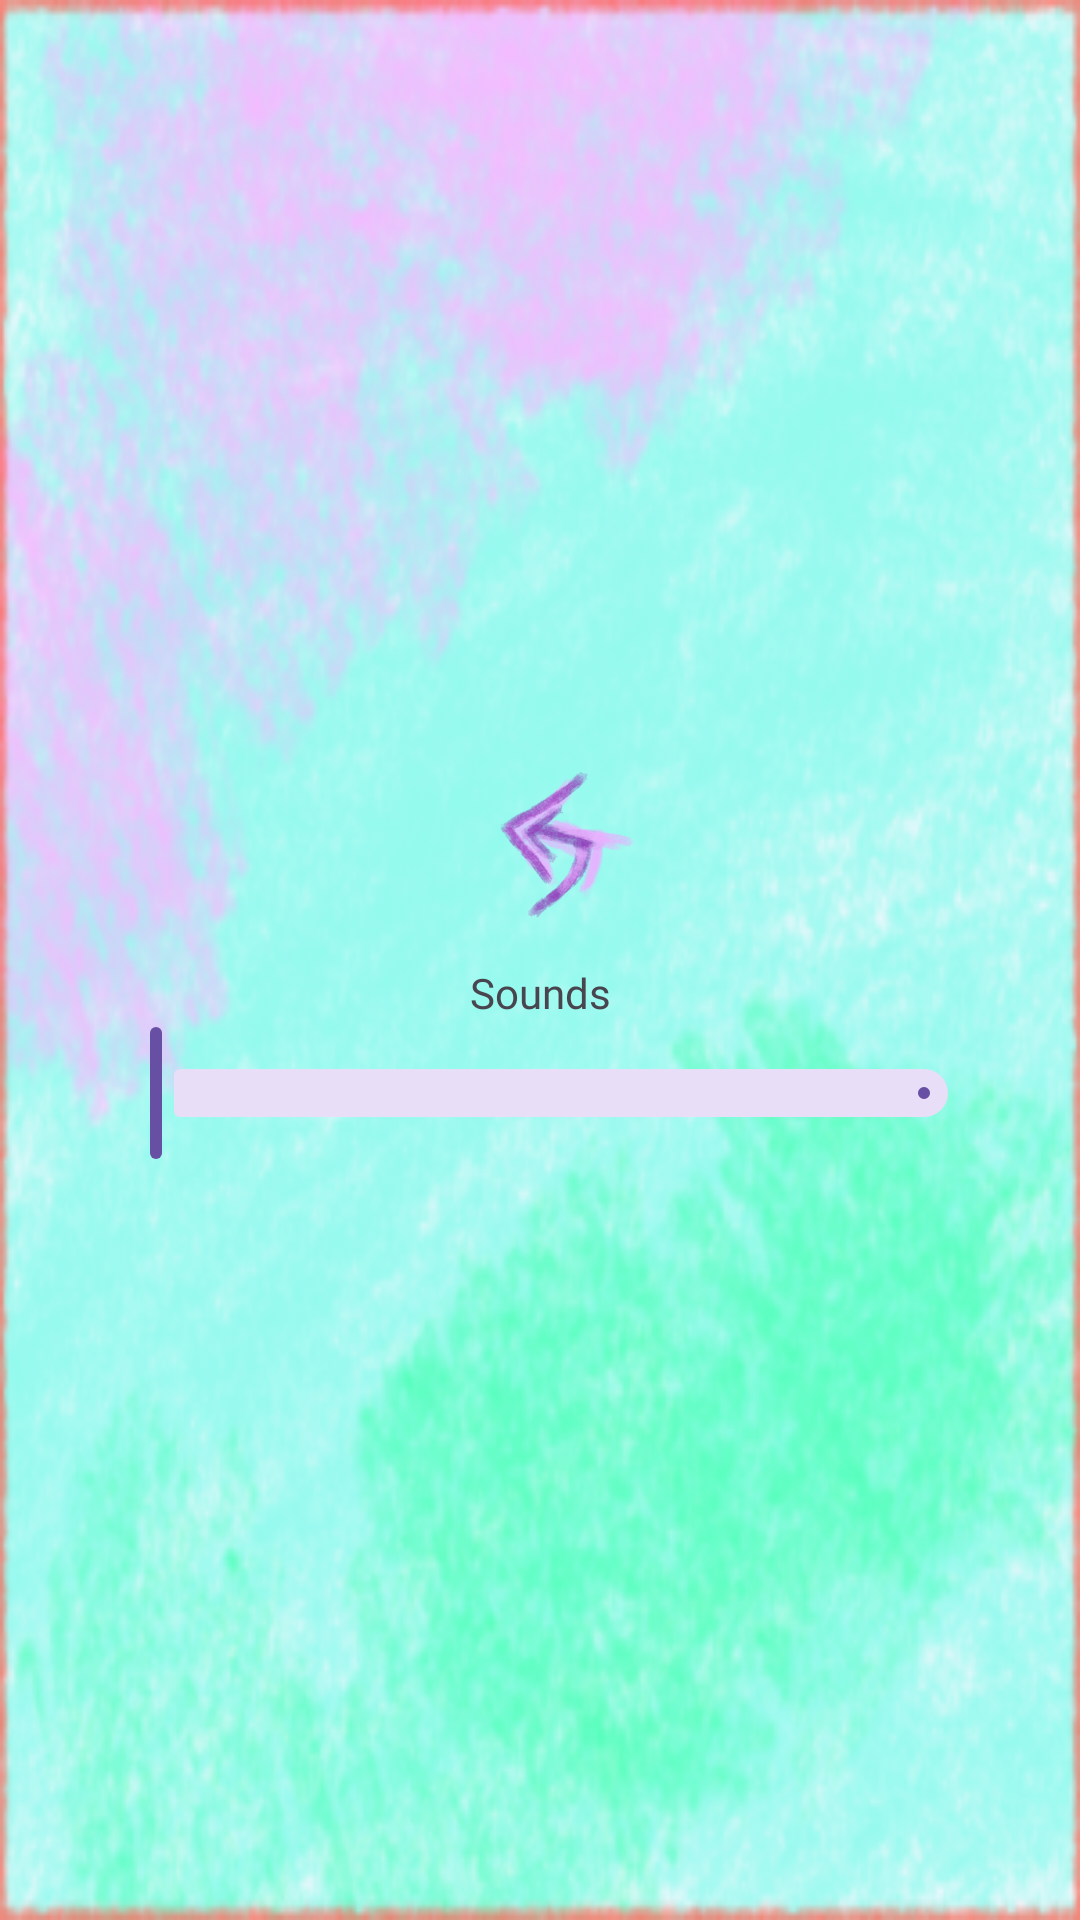

Named icons in this screenshot (1080 × 1920) and their centers, point (x, y):
shop back: point (557, 868)
